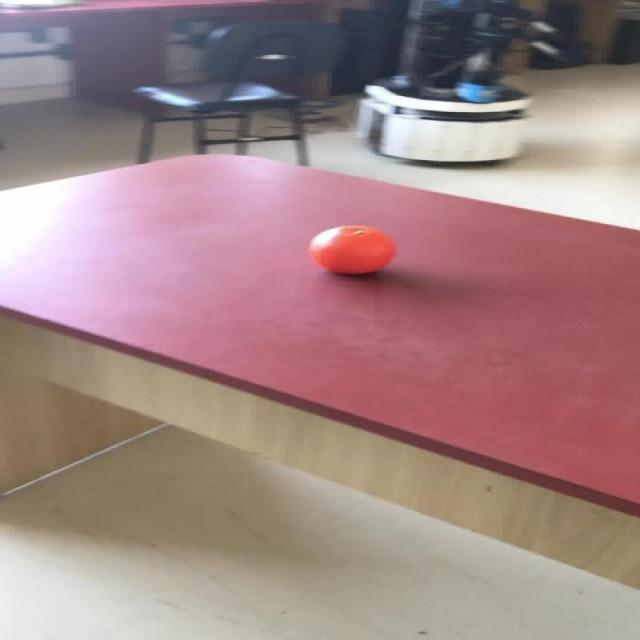Orange: (307, 224, 396, 274)
